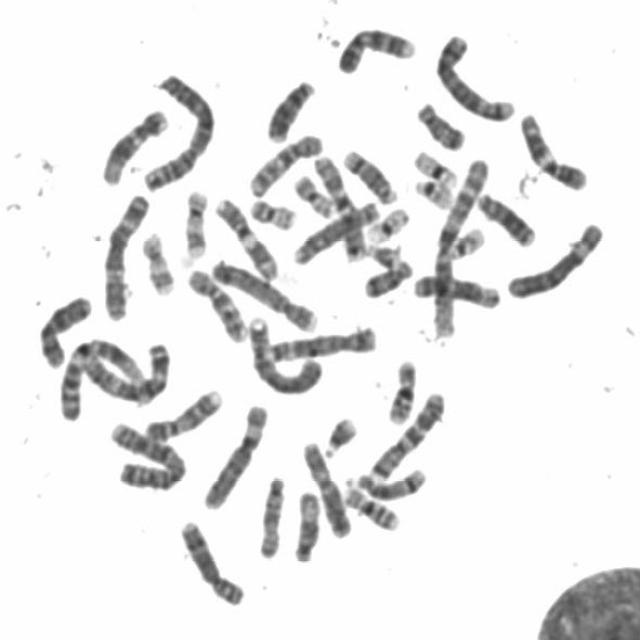A1: (428, 151, 494, 341), (53, 329, 171, 421)
A2: (137, 65, 220, 194), (104, 413, 191, 493)
A3: (98, 185, 155, 322), (72, 333, 176, 407)
B4: (207, 250, 324, 334), (245, 308, 328, 396)
B5: (431, 24, 520, 123), (262, 318, 381, 364)
C10: (244, 126, 328, 200), (182, 258, 253, 344)
C11: (516, 103, 592, 193), (209, 190, 282, 283)
C12: (98, 100, 172, 186), (409, 264, 505, 311)
C6: (502, 214, 608, 302), (199, 396, 273, 512)
C7: (364, 384, 450, 482), (309, 147, 370, 262)
C8: (176, 512, 249, 608), (289, 192, 383, 266)
C9: (140, 382, 226, 444), (334, 18, 420, 76)
D13: (472, 184, 540, 248), (263, 72, 321, 144)
D14: (338, 140, 402, 206), (347, 460, 432, 501)
D15: (255, 468, 289, 560), (289, 484, 325, 564)
E16: (339, 477, 404, 532), (382, 351, 422, 427)
E17: (138, 224, 180, 297), (179, 182, 212, 261)
E18: (413, 94, 470, 152), (359, 252, 417, 299)
F19: (410, 142, 462, 188), (364, 200, 414, 244)
F20: (288, 166, 339, 219), (245, 190, 301, 231)
G21: (318, 408, 362, 459), (361, 235, 405, 269)
G22: (409, 170, 458, 210), (444, 219, 489, 261)
X: (298, 434, 356, 539), (34, 286, 96, 370)
